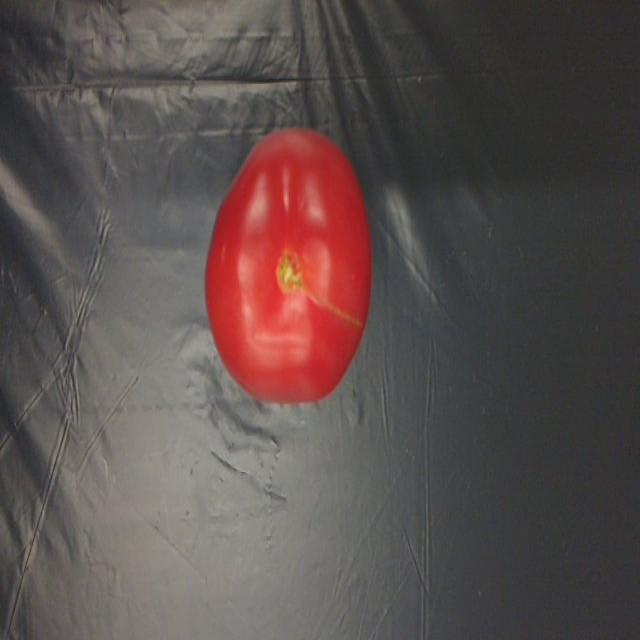kirmizi: (199, 116, 394, 444)
